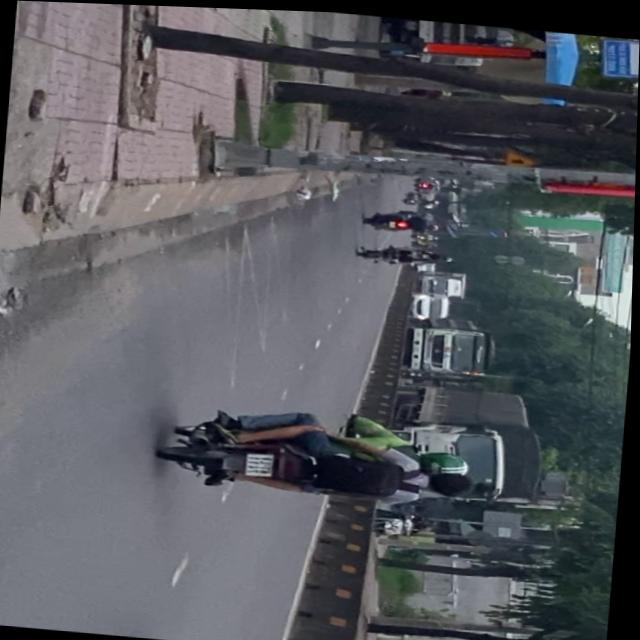helmet: (424, 449, 473, 474)
licenseplate: (157, 398, 483, 512)
motorcyclist: (426, 467, 478, 497)
nohelmet: (249, 452, 276, 475)
